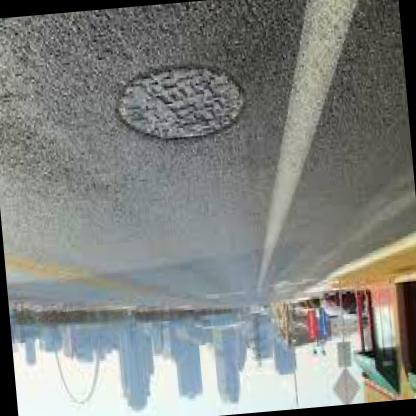manholes: (83, 53, 256, 174)
